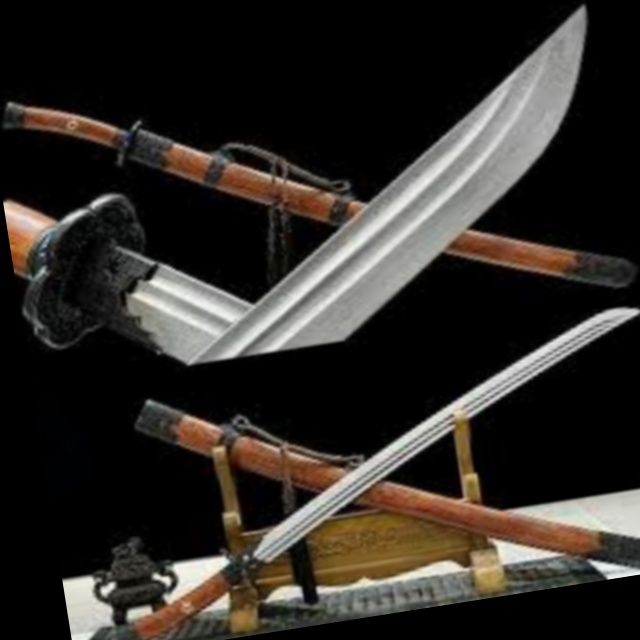Sharp-Object: (76, 307, 640, 640)
